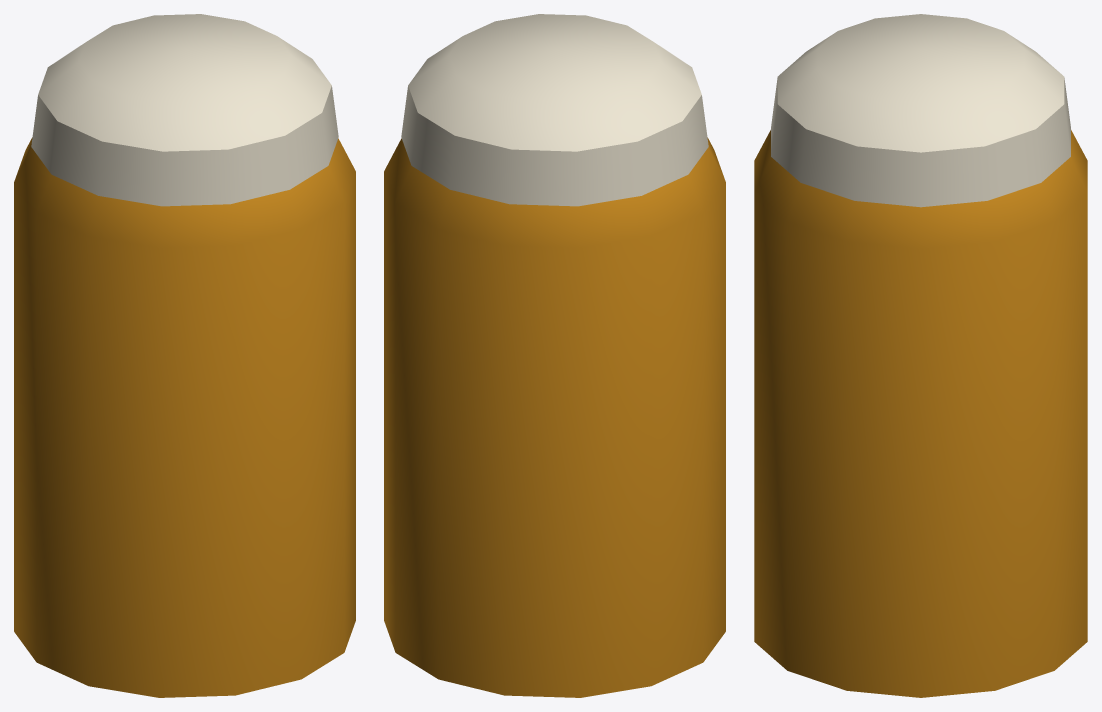
File: tpl_dispensa_vaso_l_miele.glb
3 renders of one model, left to right at view 1: azimuth 30°, elevation 25°; view 2: azimuth 150°, elevation 25°; view 3: azimuth 270°, elevation 25°, orthographic.
Visible parts, largest first — view 1: tpl_dispensa_vaso_l_miele; view 2: tpl_dispensa_vaso_l_miele; view 3: tpl_dispensa_vaso_l_miele.
Boxes of the visible parts, bbox=[...] form: tpl_dispensa_vaso_l_miele: bbox=[14, 14, 355, 697]; tpl_dispensa_vaso_l_miele: bbox=[384, 14, 725, 697]; tpl_dispensa_vaso_l_miele: bbox=[754, 14, 1087, 697].
Bounding box in the file's own units: 0.14 × 0.26 × 0.1365.
